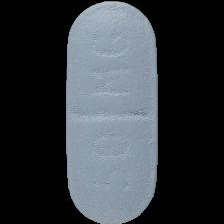55154-0527: (0, 0, 224, 224)
